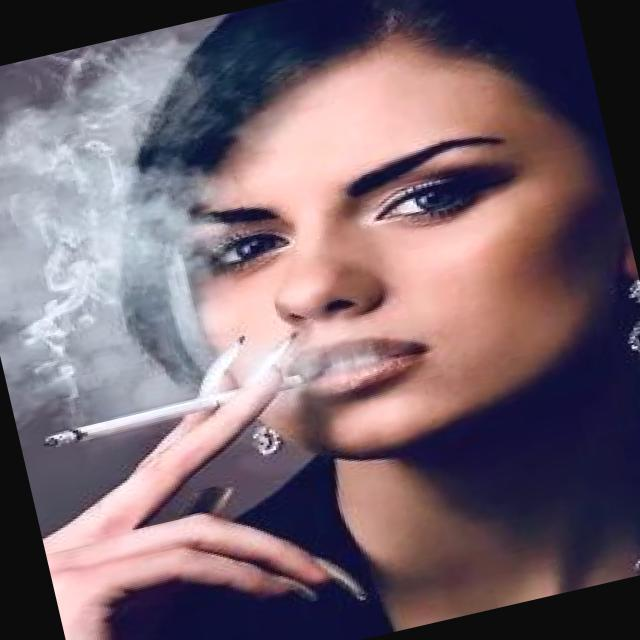smoke: (31, 362, 332, 457)
